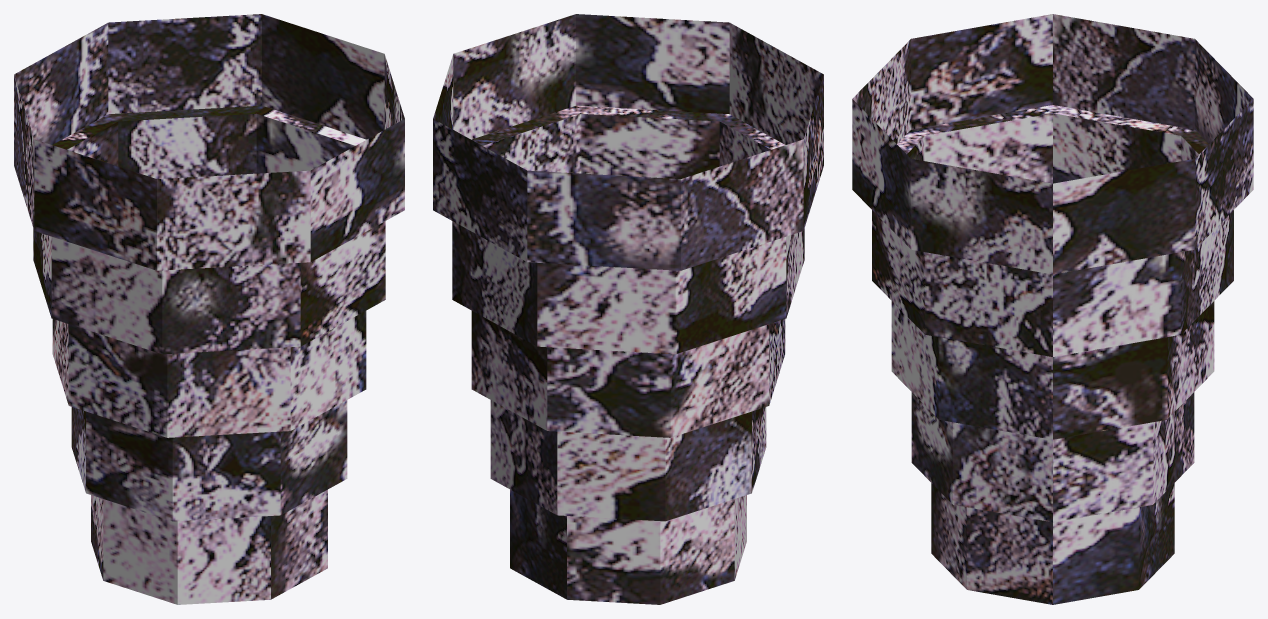
The model's file is OceanTest_Cavern_All_Applied_old.glb.
3 renders of one model, left to right at view 1: azimuth 30°, elevation 25°; view 2: azimuth 150°, elevation 25°; view 3: azimuth 270°, elevation 25°, orthographic.
Parts seen in each view (by area): view 1: Caverne; view 2: Caverne; view 3: Caverne.
Part boxes in pixels (<box>): Caverne: <box>14,14,404,604</box>; Caverne: <box>433,14,823,604</box>; Caverne: <box>852,14,1253,604</box>.
Bounding box in the file's own units: 800 × 1004 × 800.
Materials: 4 (3 with a texture image).
